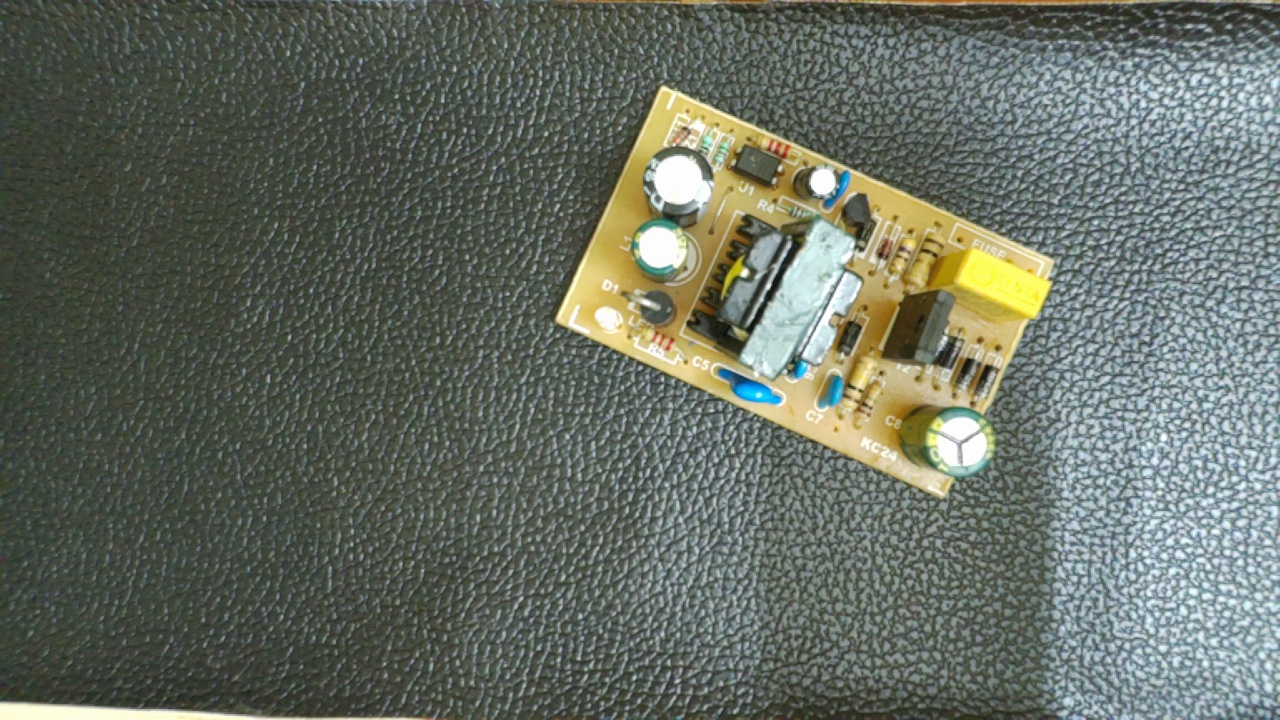hv_capacitor: (899, 401, 996, 480)
mov: (705, 363, 788, 408)
optocoupler: (725, 143, 789, 189)
